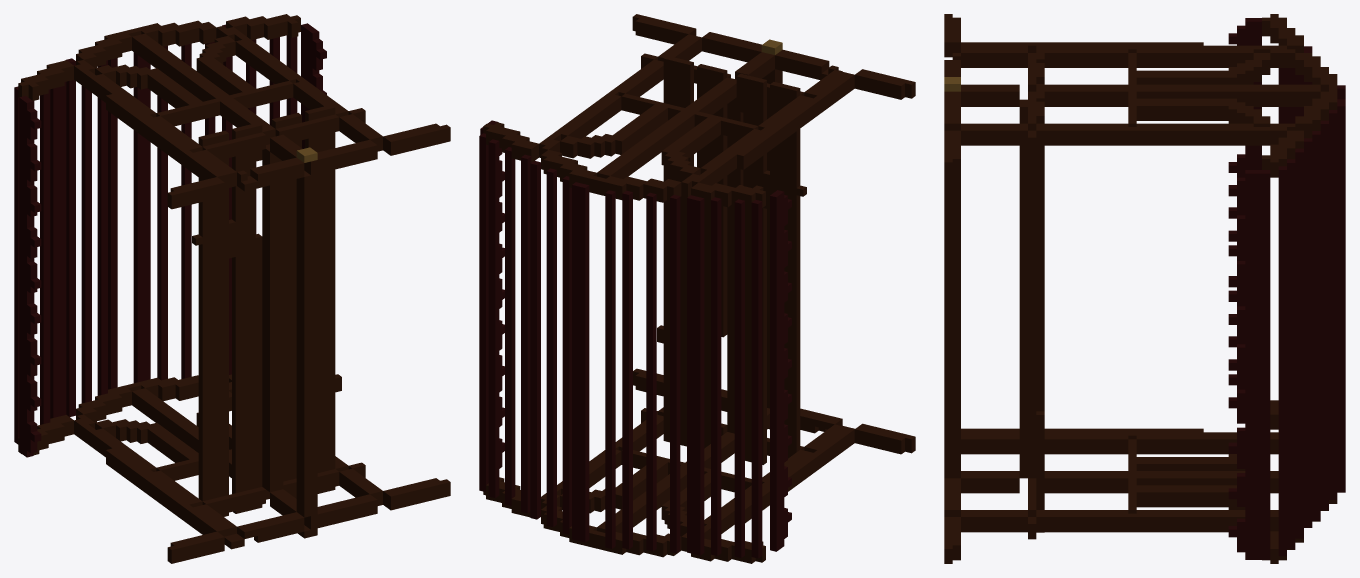
The model's file is Market Stand.fbx.
3 renders of one model, left to right at view 1: azimuth 30°, elevation 25°; view 2: azimuth 150°, elevation 25°; view 3: azimuth 270°, elevation 25°, orthographic. The views are drawn at different scales.
Visible parts, largest first — view 1: imagetostl_mesh0; view 2: imagetostl_mesh0; view 3: imagetostl_mesh0.
Boxes of the visible parts, bbox=[...] form: imagetostl_mesh0: bbox=[14, 14, 450, 563]; imagetostl_mesh0: bbox=[479, 14, 915, 563]; imagetostl_mesh0: bbox=[944, 14, 1345, 563].
Bounding box in the file's own units: 4557 × 5696 × 4971.
